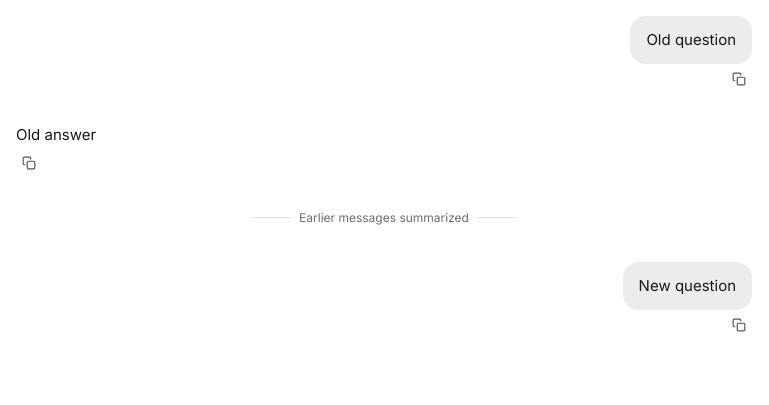
it: MessageList › marks where the summarized part of the conversation ends
The image size is (769, 405).
Expected: the list item "Old answer" is shown, [16,125,96,174]
Expected: the list item "New question" is shown, [623,262,752,336]
Step 1. Click the heading "Earlier messages summarized" → (384, 217), box [299,210,469,224]
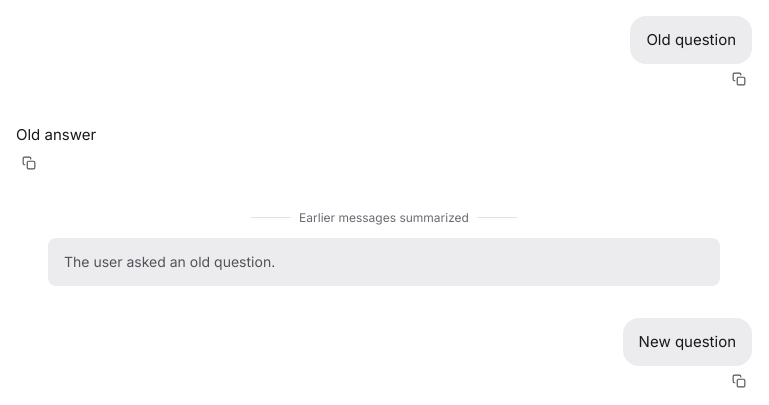
Now the text "The user asked an old question." is shown, box [48,238,720,286]
